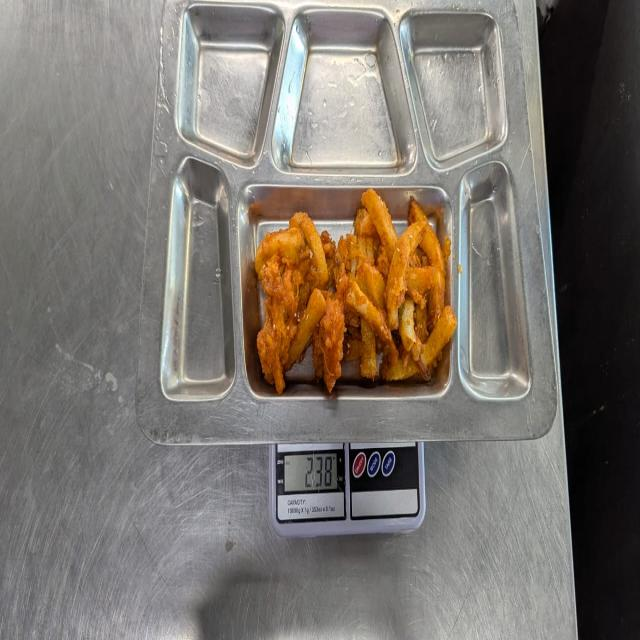Chilli Potato: (251, 181, 456, 402)
